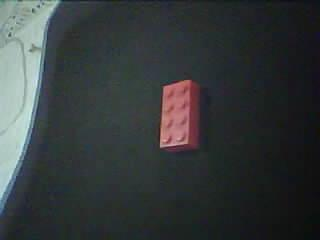lego: (158, 79, 200, 154)
